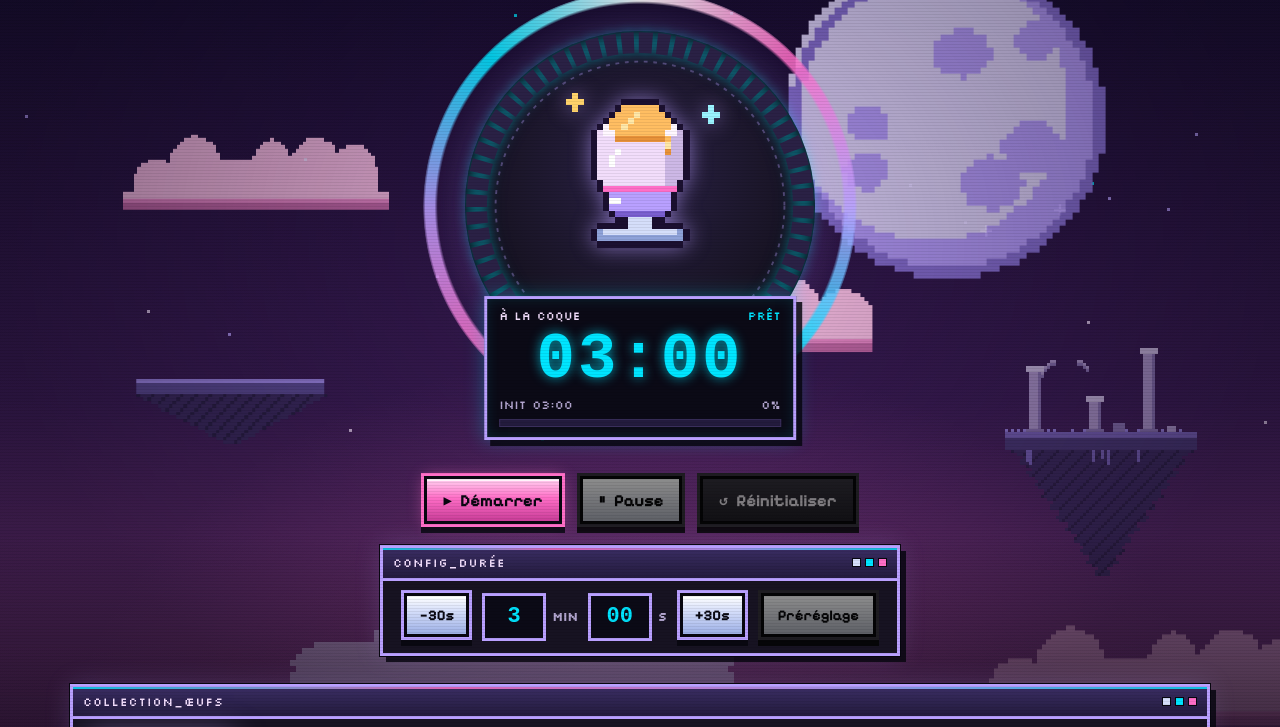
changement d’œuf pendant une cuisson › Échap équivaut à annuler, et le focus revient sur la carte cliquée
Click the button "▶ Démarrer" at {"x": 493, "y": 500}, box x1=424 y1=476 x2=562 y2=524
(page scrolled)
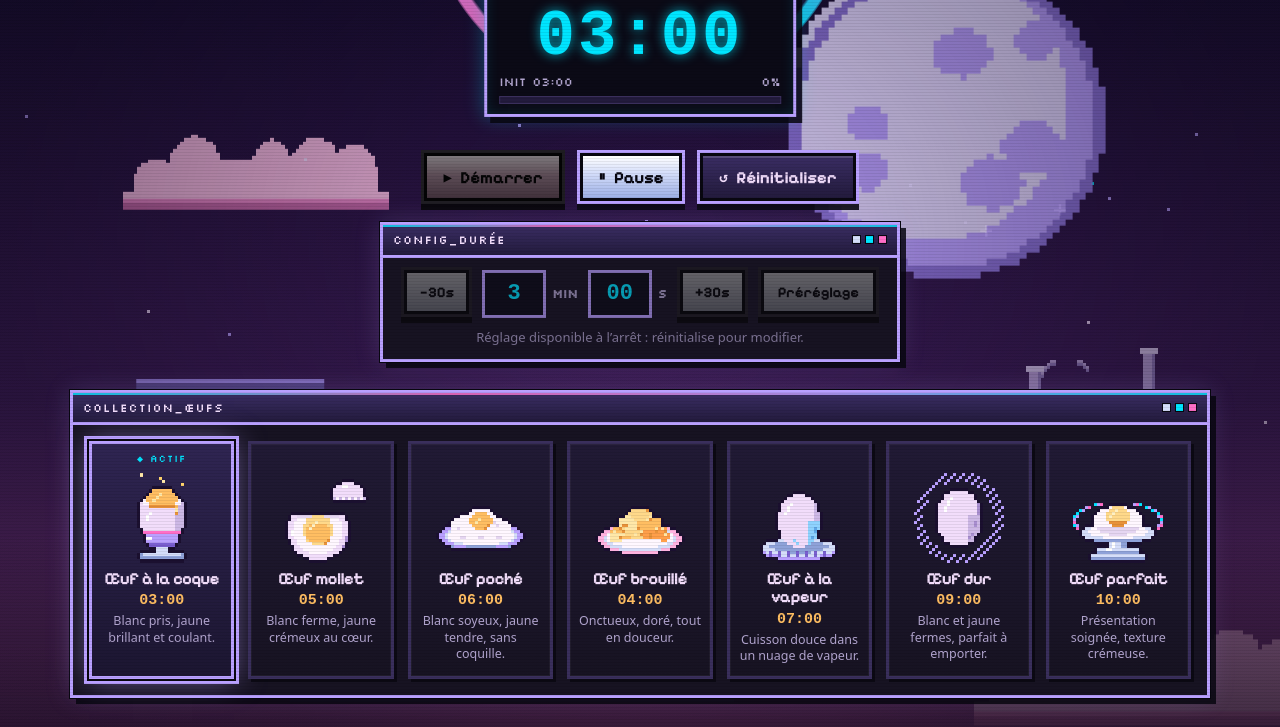
Click the button "Œuf dur 09:00 Blanc et jaune fermes, parfait à emporter." at {"x": 959, "y": 560}, box x1=886 y1=441 x2=1032 y2=679
Wait 3000 ms
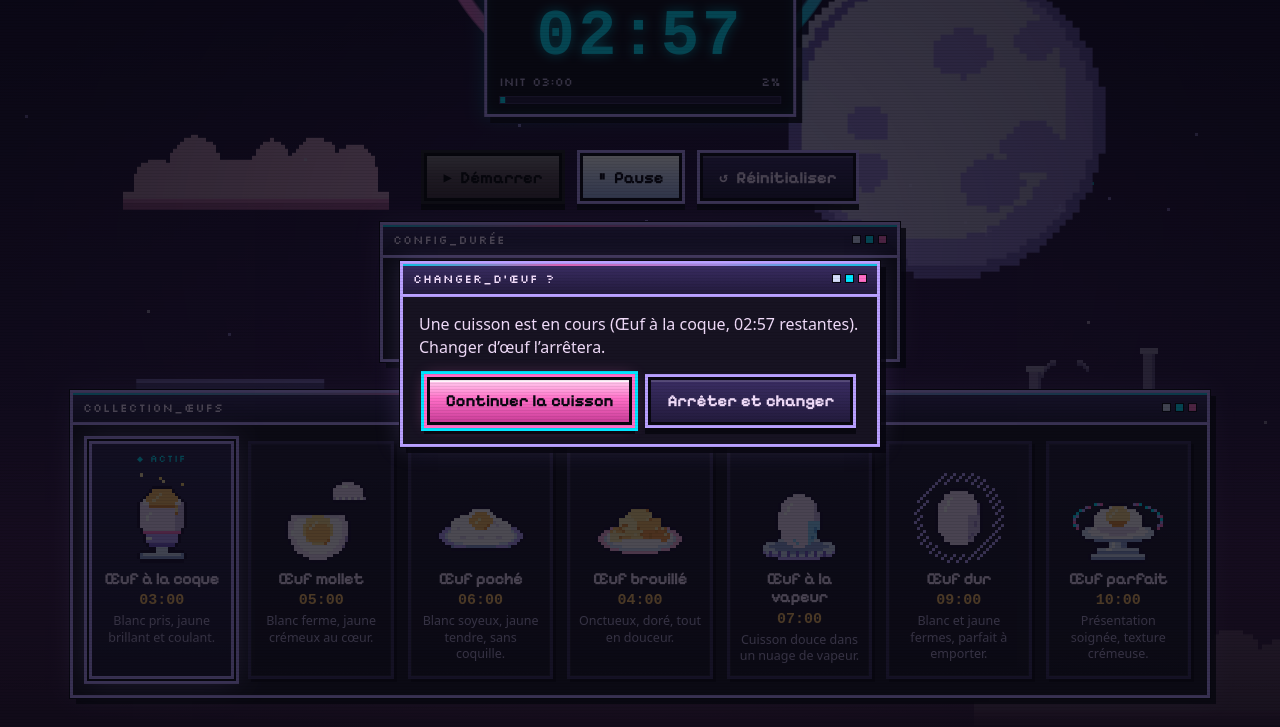
Press Escape
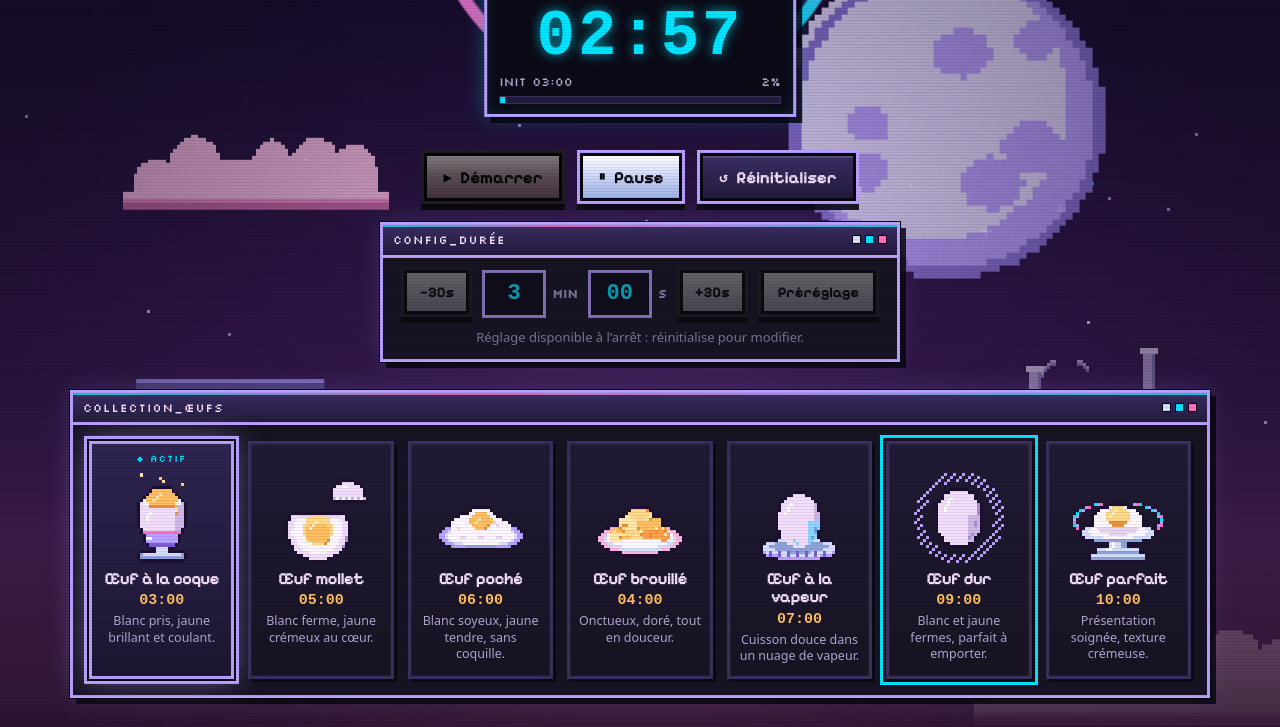
Result: the dialog is gone
